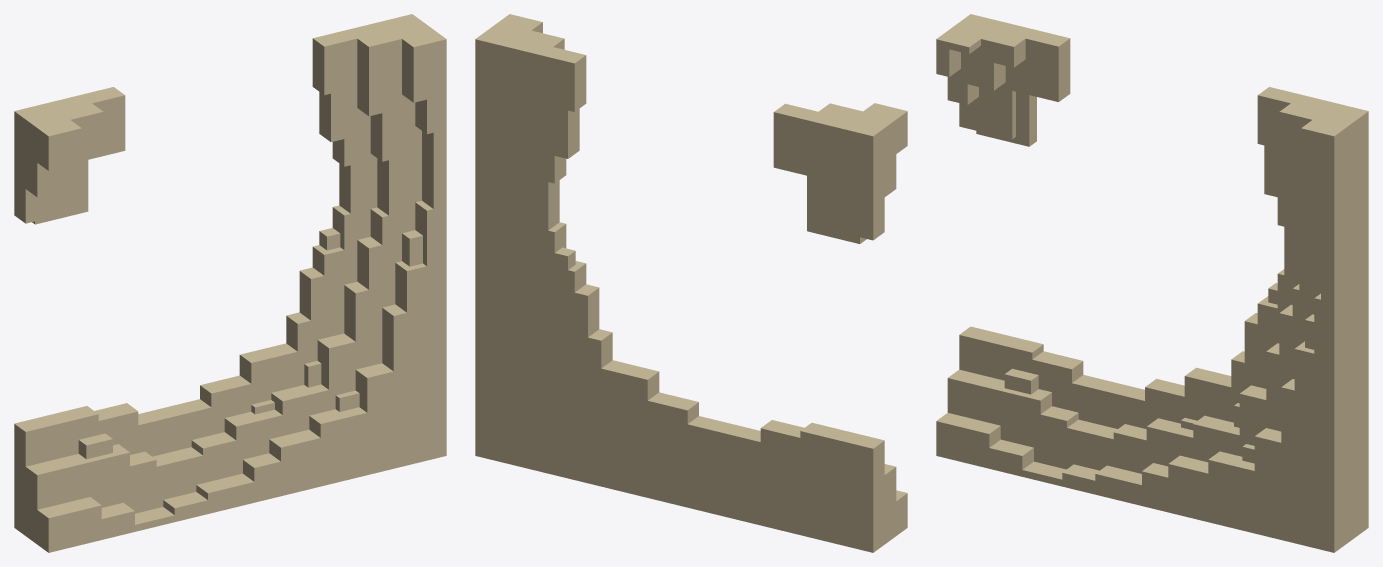
Rendered from corner 6x6.obj.
3 views of the same model, side by side, from view 1: azimuth 30°, elevation 25°; view 2: azimuth 150°, elevation 25°; view 3: azimuth 330°, elevation 25° (orthographic).
Bounding box in the file's own units: 60 × 60 × 9.
1 material, 1 textured.
